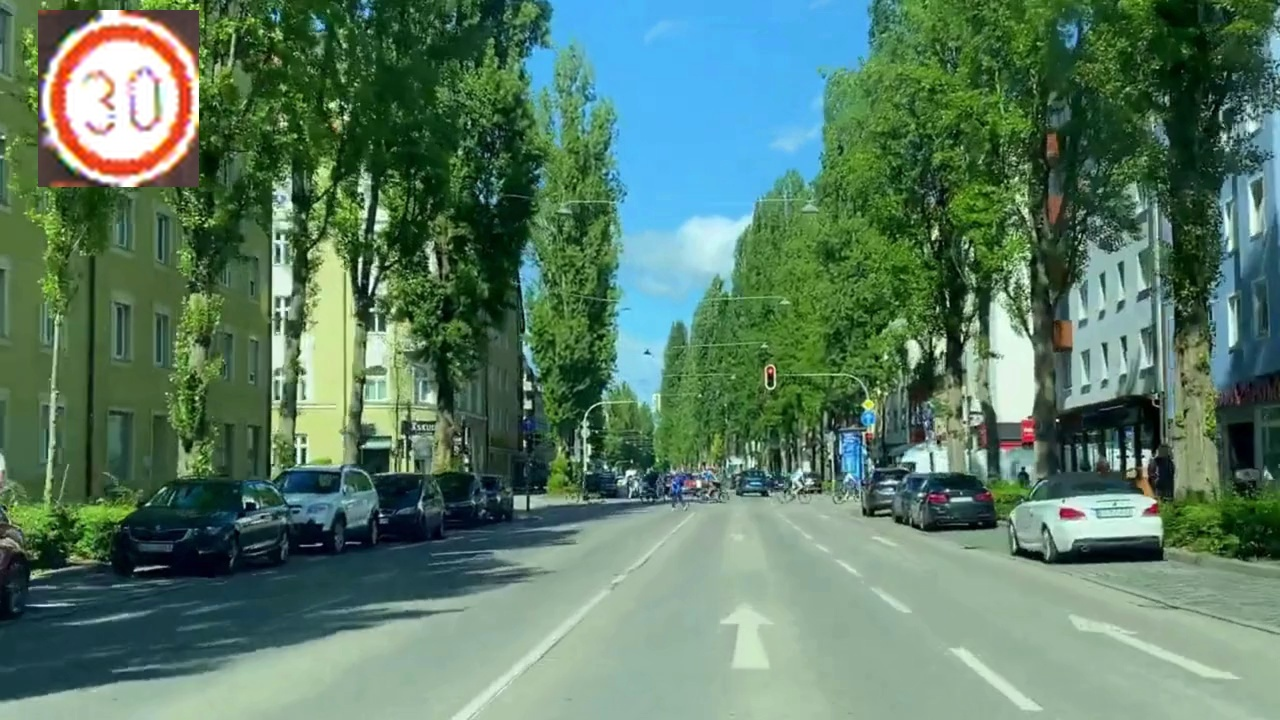Speed 30: (38, 10, 199, 187)
